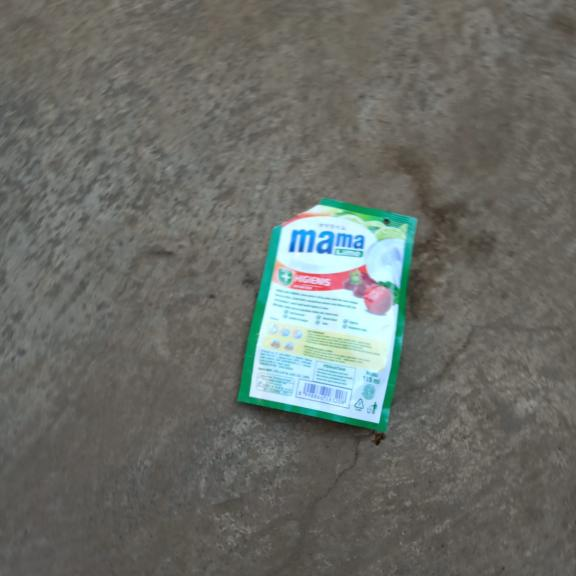Plastik: (236, 197, 419, 436)
